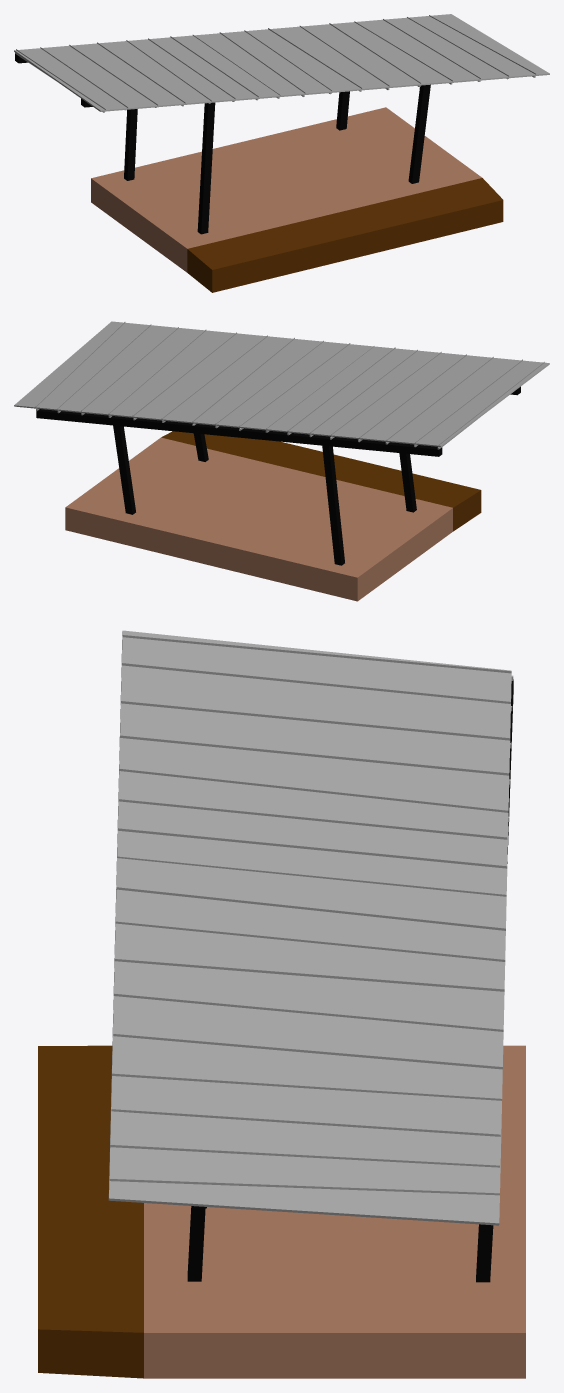
The model's file is h-stage.fbx.
3 views of the same model, one above another, from view 1: azimuth 30°, elevation 25°; view 2: azimuth 150°, elevation 25°; view 3: azimuth 270°, elevation 25° (orthographic). The views are drawn at different scales.
Visible parts, largest first — view 1: h_stage; view 2: h_stage; view 3: h_stage.
Part boxes in pixels (x1=…): h_stage: x1=14, y1=14, x2=549, y2=292; h_stage: x1=14, y1=321, x2=549, y2=601; h_stage: x1=38, y1=630, x2=525, y2=1378.
Size of the model in its own units: 267 by 108 by 128.
